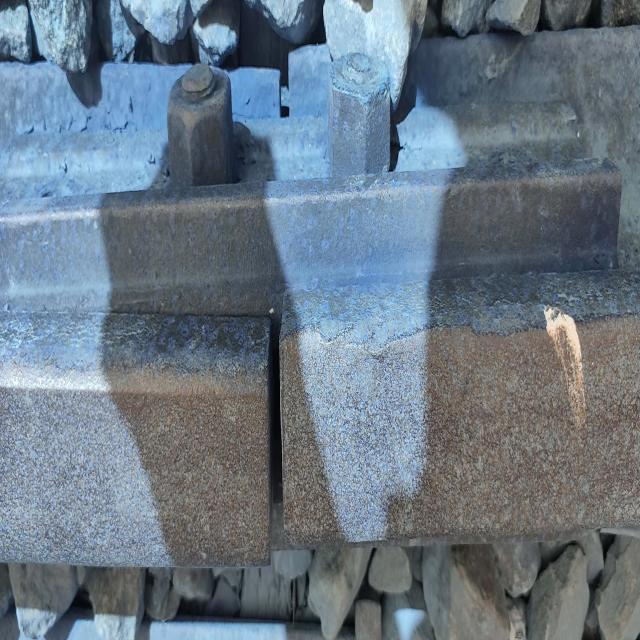railway_join_bar_defects_low: (258, 54, 298, 556)
